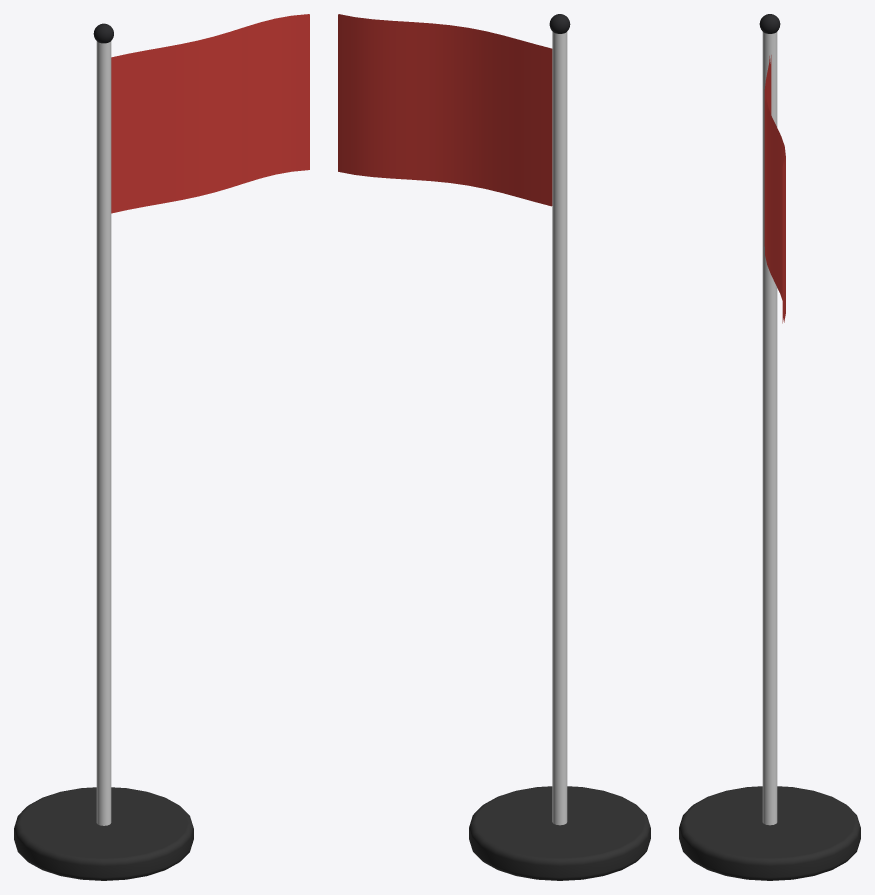
The model's file is flag_red.glb.
The picture shows the model from 3 angles, left to right: view 1: azimuth 30°, elevation 25°; view 2: azimuth 150°, elevation 25°; view 3: azimuth 270°, elevation 25°; orthographic projection.
Visible parts, largest first — view 1: SM_flag_red; view 2: SM_flag_red; view 3: SM_flag_red.
Part boxes in pixels (x1=…): SM_flag_red: x1=14, y1=14, x2=309, y2=880; SM_flag_red: x1=338, y1=14, x2=650, y2=880; SM_flag_red: x1=679, y1=14, x2=860, y2=880.
Size of the model in its own units: 0.82 by 2.22 by 0.44.
